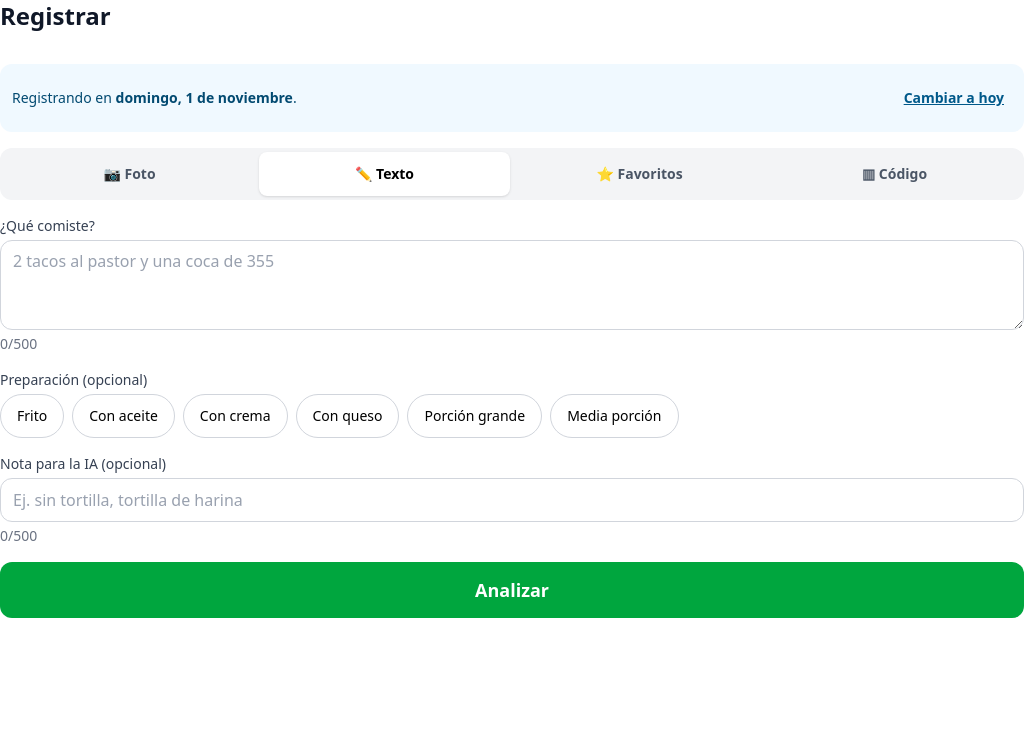
Test case: Capturar: texto sin conexión › ofrece "Guardar para analizar después" y encola el texto con su día
Type "2 tacos al pastor" into the text box labelled "¿Qué comiste?". click: (512, 285)
box: [0,240,1023,330]
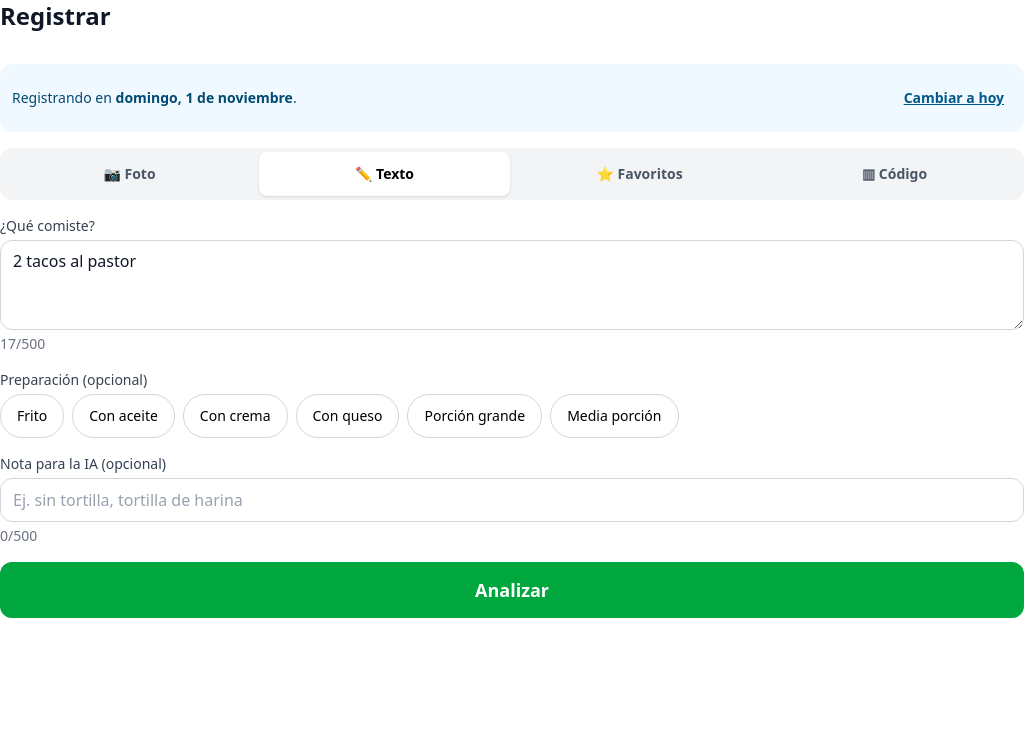
Click the button "Analizar". click: (512, 590)
box: [0,562,1023,618]
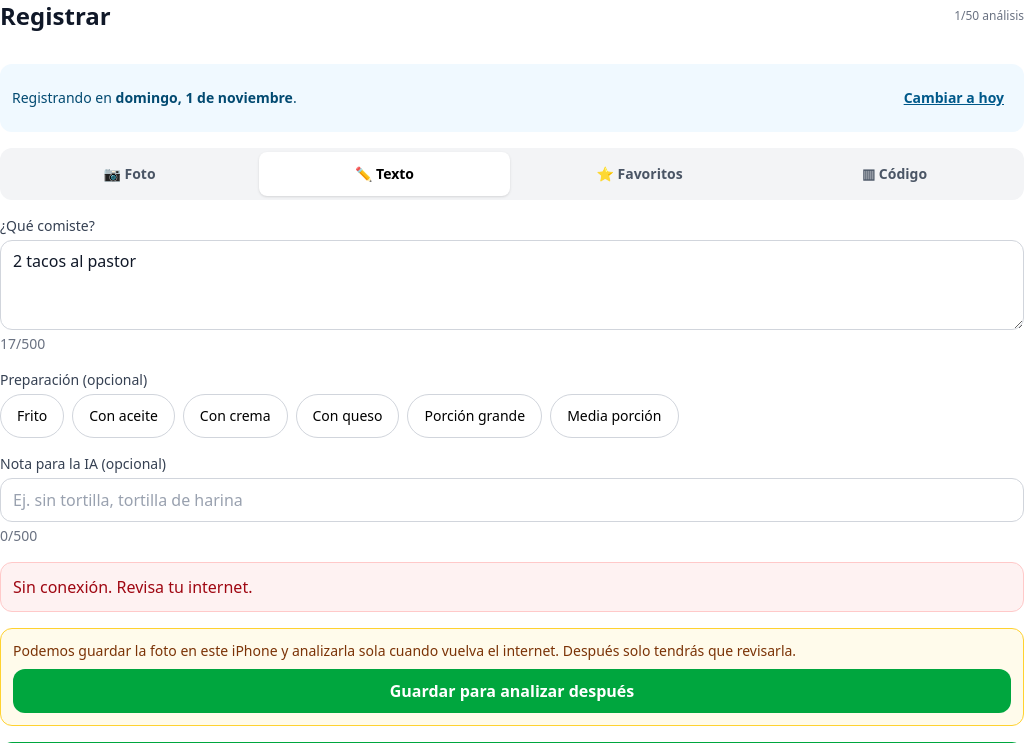
Check: the text "Sin conexión. Revisa tu internet." is shown, box [13,576,252,598]
Click the button "Guardar para analizar después". click: (512, 691)
box: [13,669,1011,713]
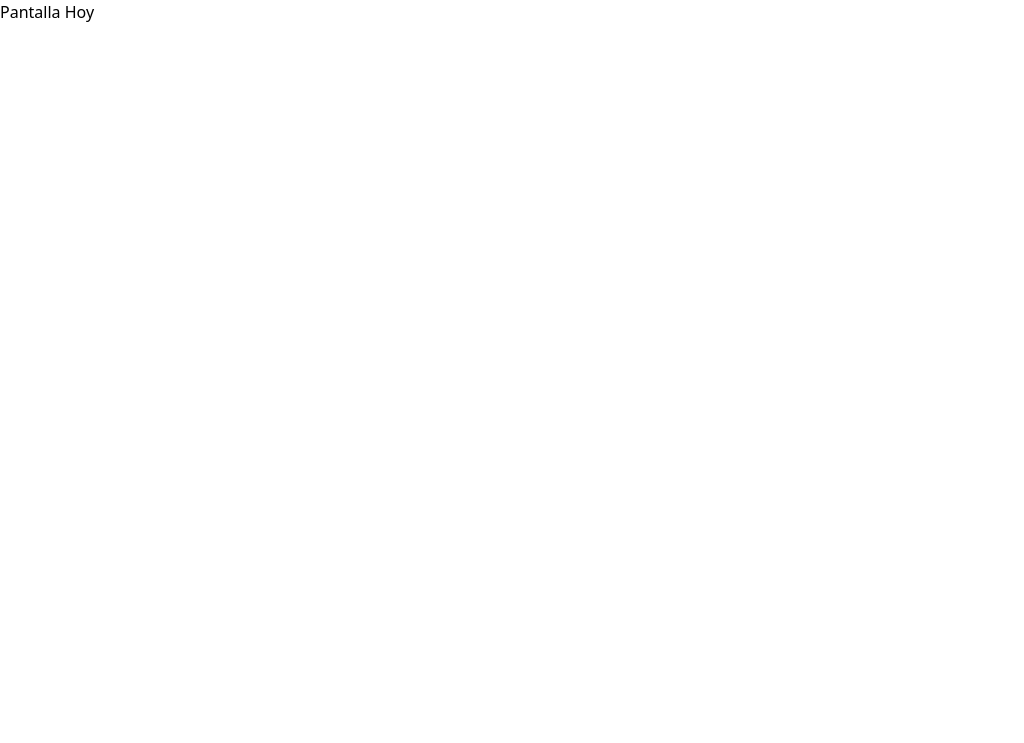
Check: the text "Pantalla Hoy" is shown, box [0,1,94,23]
